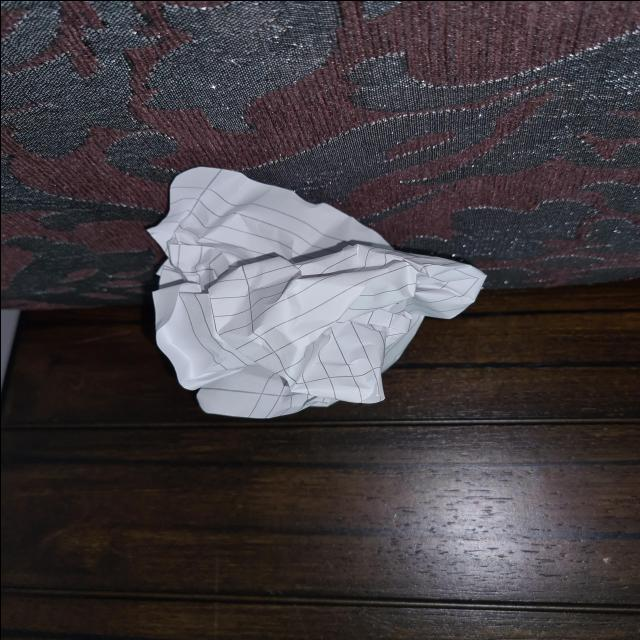kertas: (146, 162, 497, 416)
